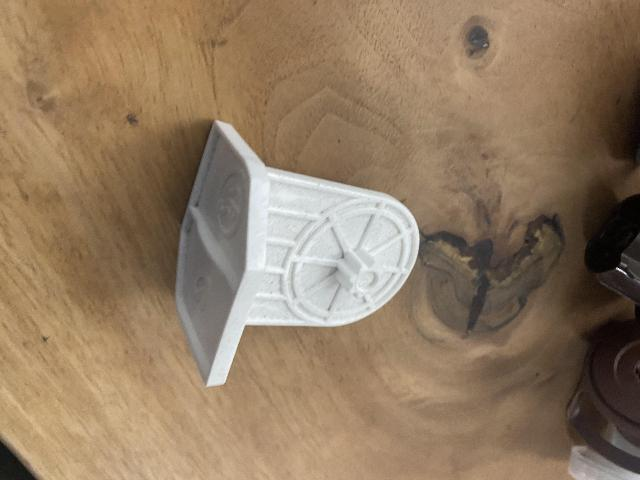Plastik: (170, 113, 425, 390)
